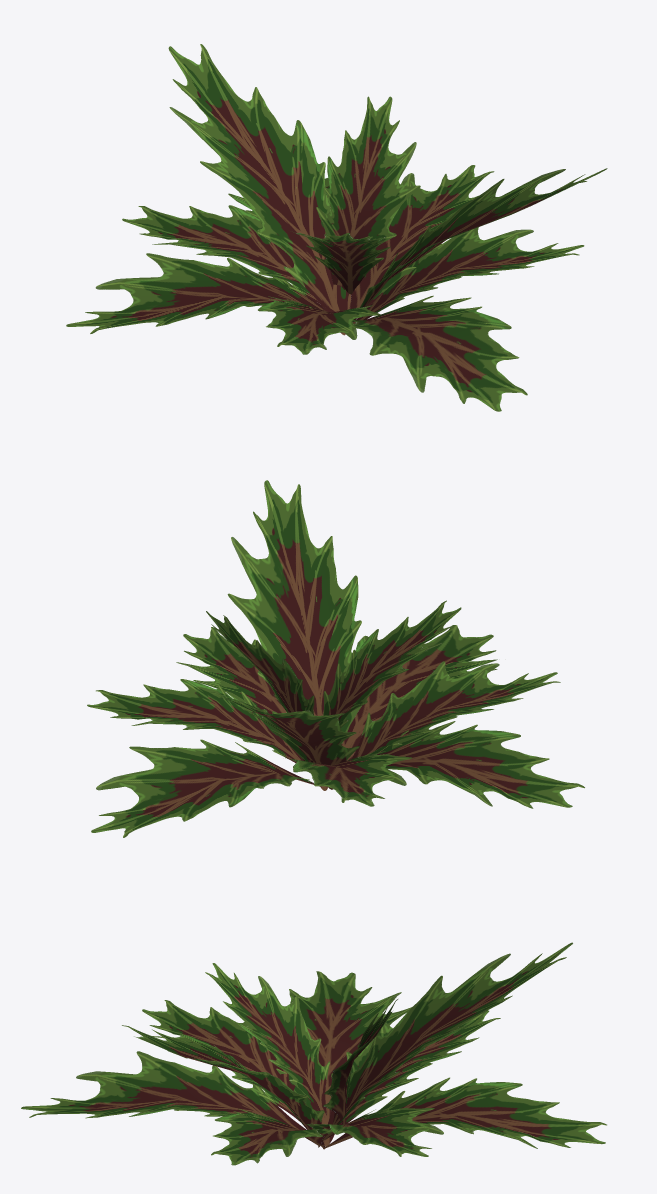
The model's file is plant3.fbx.
3 renders of one model, top to bottom at view 1: azimuth 30°, elevation 25°; view 2: azimuth 150°, elevation 25°; view 3: azimuth 270°, elevation 25°, orthographic. The views are drawn at different scales.
Parts seen in each view (by area): view 1: Plane.015; view 2: Plane.015; view 3: Plane.015.
Boxes of the visible parts, box(x1,y1,x2,y2) form: Plane.015: box(66, 44, 607, 411); Plane.015: box(87, 480, 584, 837); Plane.015: box(21, 942, 606, 1165).
Bounding box in the file's own units: 292 × 120 × 337.
